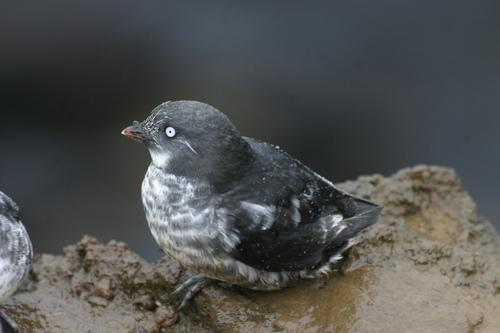006.Least_Auklet: (119, 100, 387, 311), (1, 191, 37, 333)
